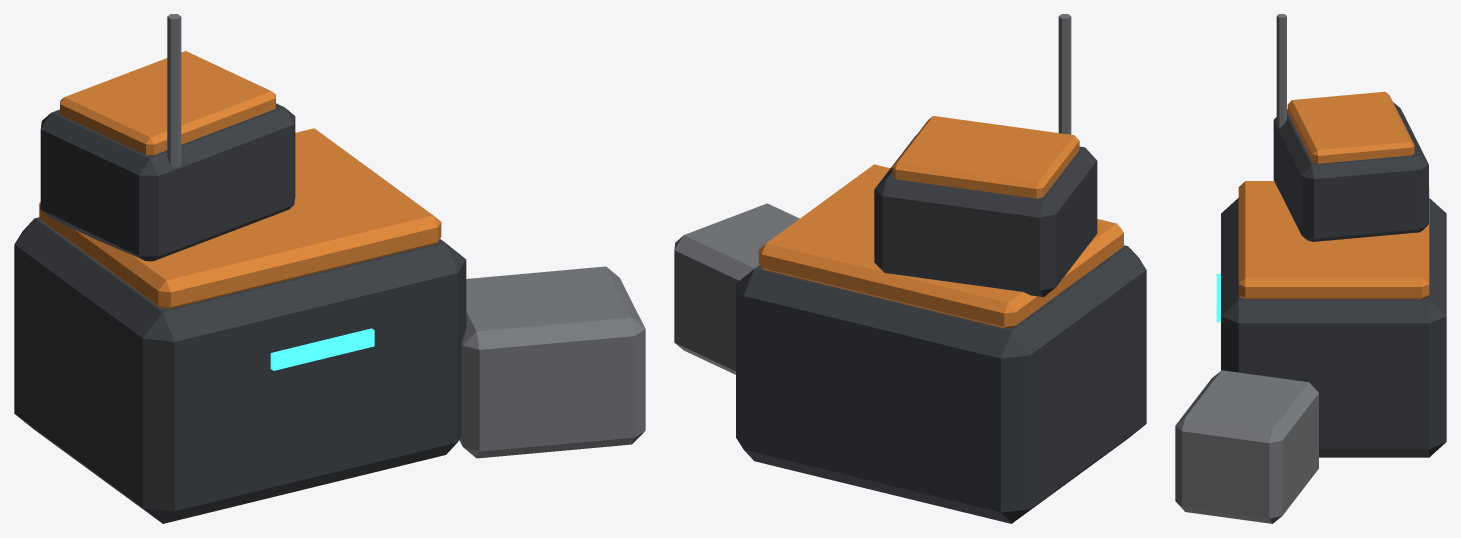
The model's file is TC_PICKUP_Electronics_V1.glb.
3 views of the same model, side by side, from view 1: azimuth 30°, elevation 25°; view 2: azimuth 150°, elevation 25°; view 3: azimuth 270°, elevation 25° (orthographic). The views are drawn at different scales.
Visible parts, largest first — view 1: TC_Electronics_CrateMain, TC_Electronics_ModuleA, TC_Electronics_ModuleB, TC_Electronics_LidMain, TC_Electronics_LidB, TC_Electronics_Antenna, TC_Electronics_IndicatorA; view 2: TC_Electronics_CrateMain, TC_Electronics_ModuleB, TC_Electronics_LidMain, TC_Electronics_LidB, TC_Electronics_ModuleA, TC_Electronics_Antenna; view 3: TC_Electronics_CrateMain, TC_Electronics_ModuleA, TC_Electronics_LidMain, TC_Electronics_ModuleB, TC_Electronics_LidB, TC_Electronics_Antenna.
Part boxes in pixels (box(x1,y1,x2,y2)): TC_Electronics_CrateMain: box(14, 217, 466, 523); TC_Electronics_ModuleA: box(459, 266, 645, 458); TC_Electronics_ModuleB: box(40, 103, 295, 261); TC_Electronics_LidMain: box(39, 128, 441, 308); TC_Electronics_LidB: box(60, 51, 275, 155); TC_Electronics_Antenna: box(167, 14, 181, 167); TC_Electronics_IndicatorA: box(270, 328, 374, 370); TC_Electronics_CrateMain: box(736, 245, 1146, 523); TC_Electronics_ModuleB: box(874, 135, 1097, 297); TC_Electronics_LidMain: box(758, 164, 1123, 328); TC_Electronics_LidB: box(892, 116, 1079, 198); TC_Electronics_ModuleA: box(674, 203, 799, 374); TC_Electronics_Antenna: box(1058, 14, 1071, 134); TC_Electronics_CrateMain: box(1221, 198, 1446, 457); TC_Electronics_ModuleA: box(1175, 370, 1318, 523); TC_Electronics_LidMain: box(1238, 181, 1429, 299); TC_Electronics_ModuleB: box(1273, 102, 1428, 241); TC_Electronics_LidB: box(1287, 91, 1414, 163); TC_Electronics_Antenna: box(1276, 14, 1286, 127).
Bounding box in the file's own units: 0.4936 × 0.45 × 0.3128.
